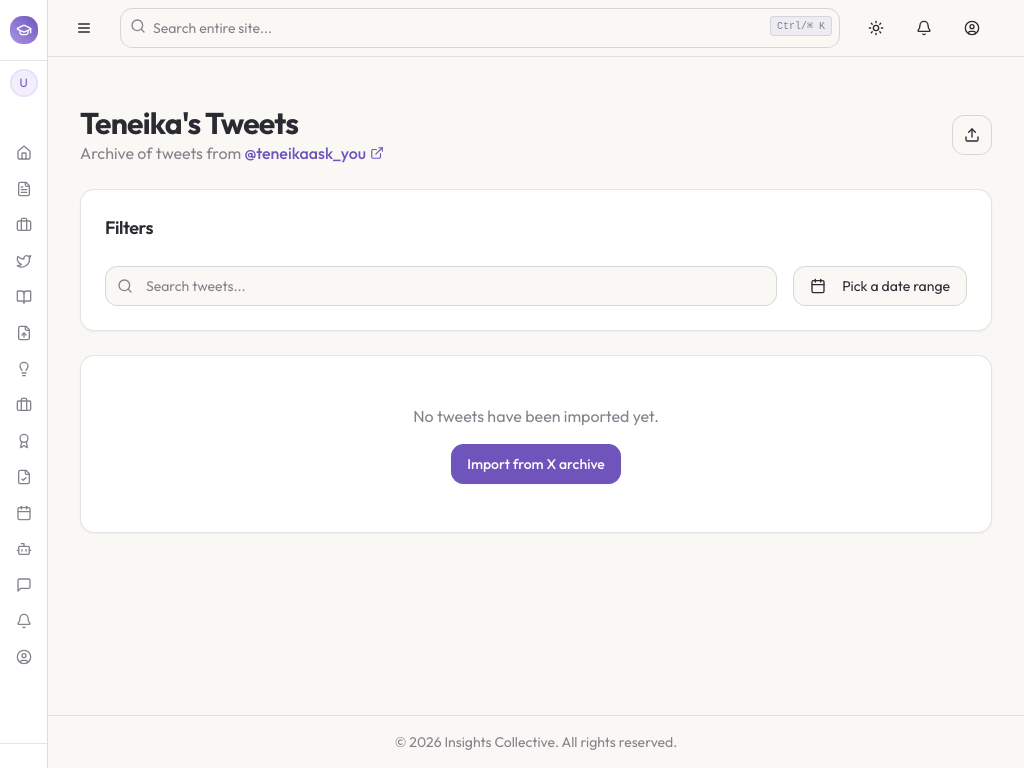
Test: TeneikaTweets archive import control › opens the upload dialog when an admin clicks it
The width and height of the screenshot is (1024, 768).
Step 1. Click the button with test id "import-archive-button" → (972, 135), box [952, 115, 992, 155]
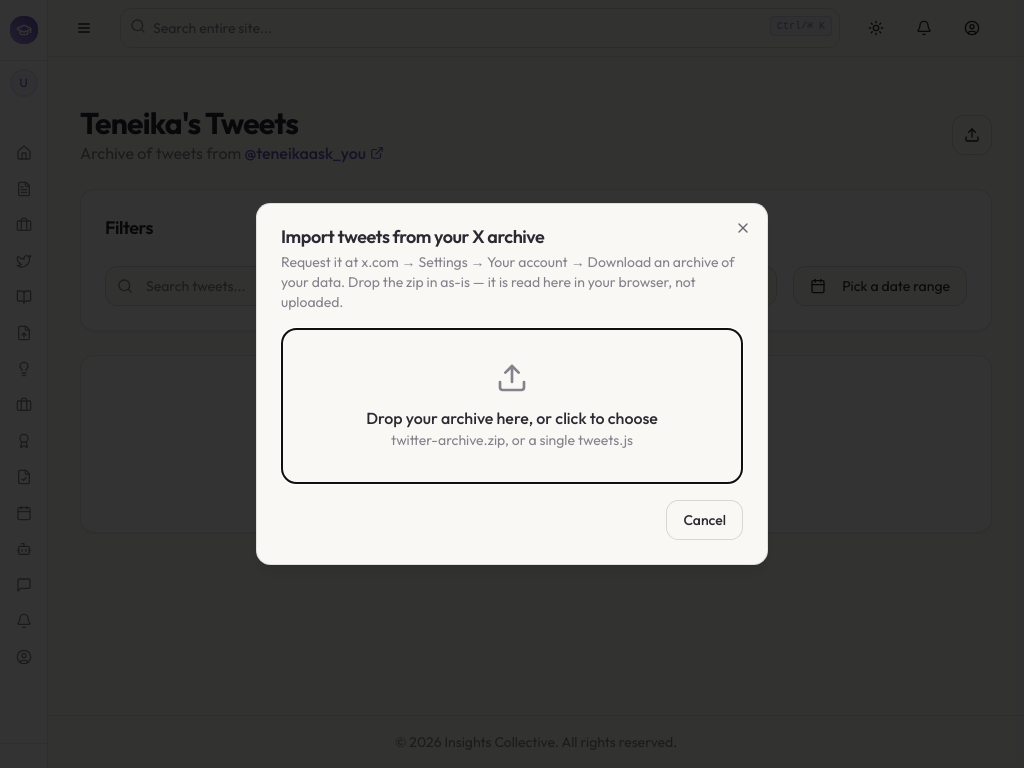
Expected: the dialog with test id "tweet-archive-upload-dialog" is shown, [256, 203, 768, 565]
Expected: the element with test id "archive-dropzone" is shown, [281, 328, 743, 484]
